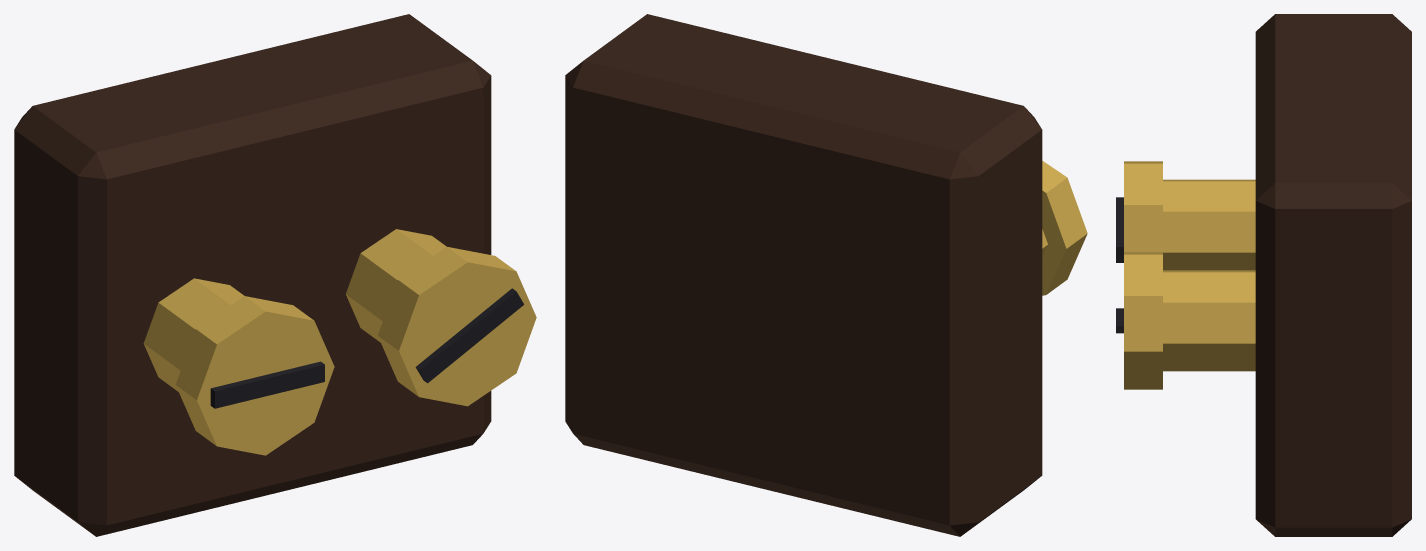
File: switch.terminal.glb
3 views of the same model, side by side, from view 1: azimuth 30°, elevation 25°; view 2: azimuth 150°, elevation 25°; view 3: azimuth 270°, elevation 25° (orthographic). The views are drawn at different scales.
Parts seen in each view (by area): view 1: block, head-1, head1, post-1, post1, slot1, slot-1; view 2: block, head-1; view 3: block, post1, post-1, head1, head-1, slot-1.
Boxes of the visible parts, x1,y1,x2,y2 form: block: [14, 14, 491, 536]; head-1: [175, 296, 334, 455]; head1: [378, 246, 536, 406]; post-1: [143, 278, 244, 391]; post1: [346, 229, 446, 342]; slot1: [415, 288, 523, 383]; slot-1: [210, 361, 324, 408]; block: [565, 14, 1042, 536]; head-1: [1042, 161, 1087, 295]; block: [1255, 14, 1411, 536]; post1: [1163, 270, 1255, 371]; post-1: [1163, 179, 1255, 270]; head1: [1124, 252, 1162, 389]; head-1: [1124, 161, 1162, 251]; slot-1: [1116, 197, 1123, 262].
Size of the model in its own units: 0.045 by 0.04 by 0.0303.
